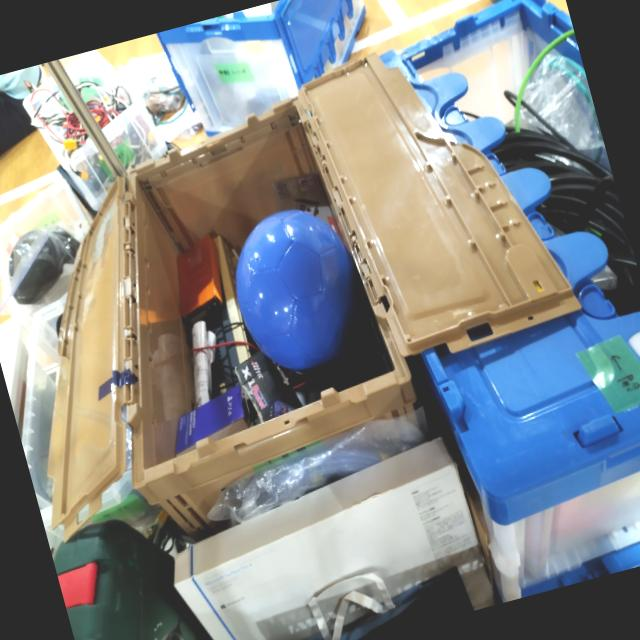blue_ball: (218, 196, 384, 394)
